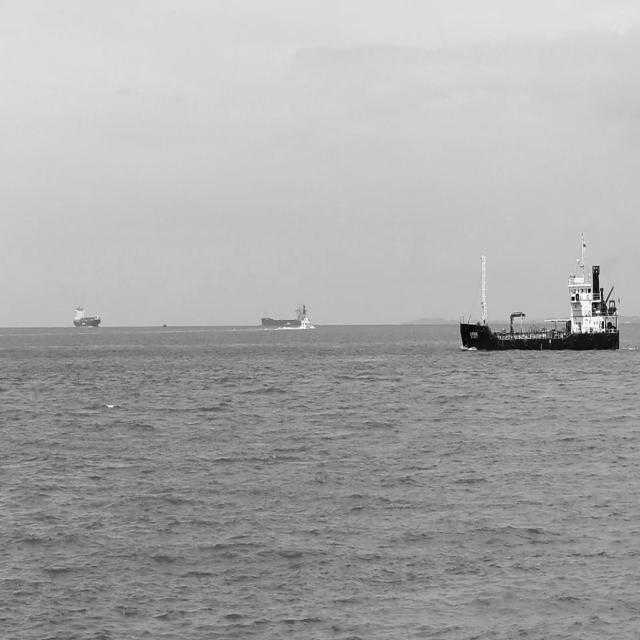ship: (456, 243, 622, 353), (259, 298, 310, 332), (72, 301, 102, 329), (300, 312, 312, 332)
